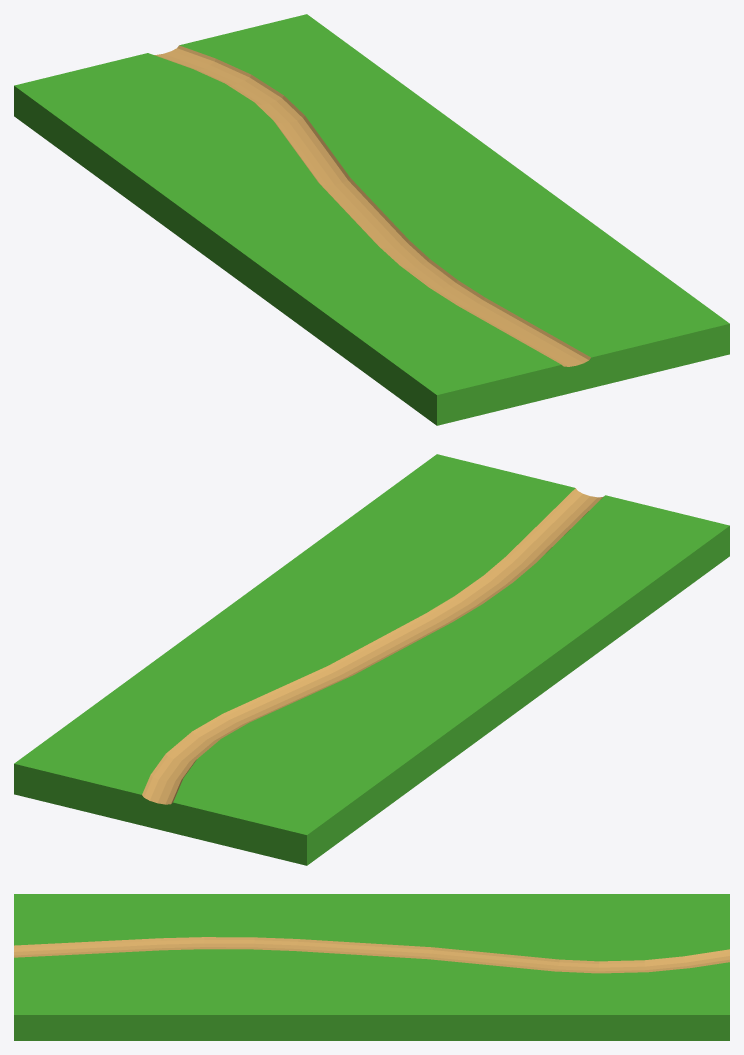
The model's file is way4.fbx.
The picture shows the model from 3 angles, top to bottom: view 1: azimuth 30°, elevation 25°; view 2: azimuth 150°, elevation 25°; view 3: azimuth 270°, elevation 25°; orthographic projection. The views are drawn at different scales.
Visible parts, largest first — view 1: Cube; view 2: Cube; view 3: Cube.
Boxes of the visible parts, x1=… form: Cube: x1=14, y1=14, x2=729, y2=425; Cube: x1=14, y1=454, x2=729, y2=865; Cube: x1=14, y1=894, x2=729, y2=1040.
Bounding box in the file's own units: 2000 × 200 × 5000.
